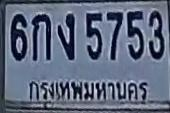3: (148, 10, 164, 59)
5: (127, 10, 144, 60), (86, 12, 102, 59)
6: (10, 13, 27, 60)
7: (106, 11, 123, 60)
A01: (31, 13, 51, 61)
A07: (57, 13, 76, 61)
BKK: (26, 77, 153, 104)
